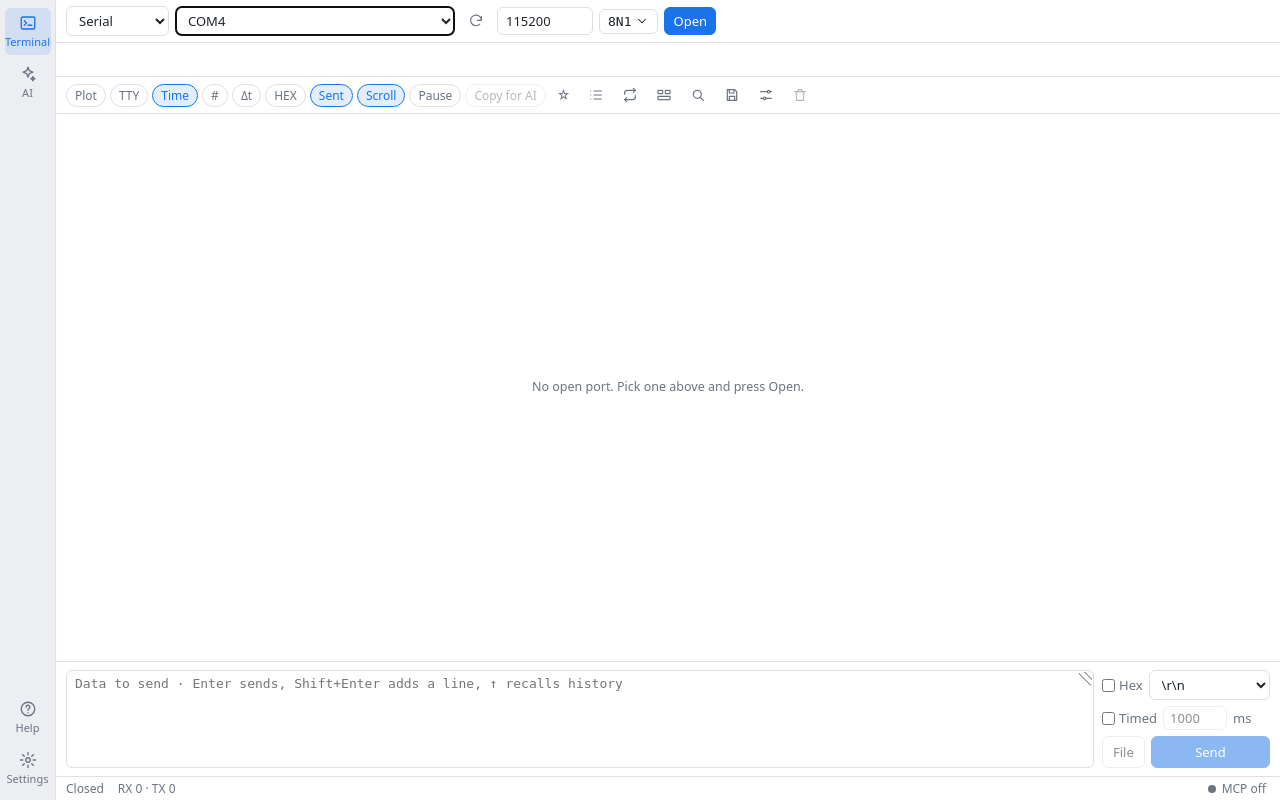
it: App › lists ports and opens one with the chosen settings
Earlier steps of the test are not shown.
Replace the text in the field named "Baud" with "921600" at (545, 21), box 497,7 -> 593,35
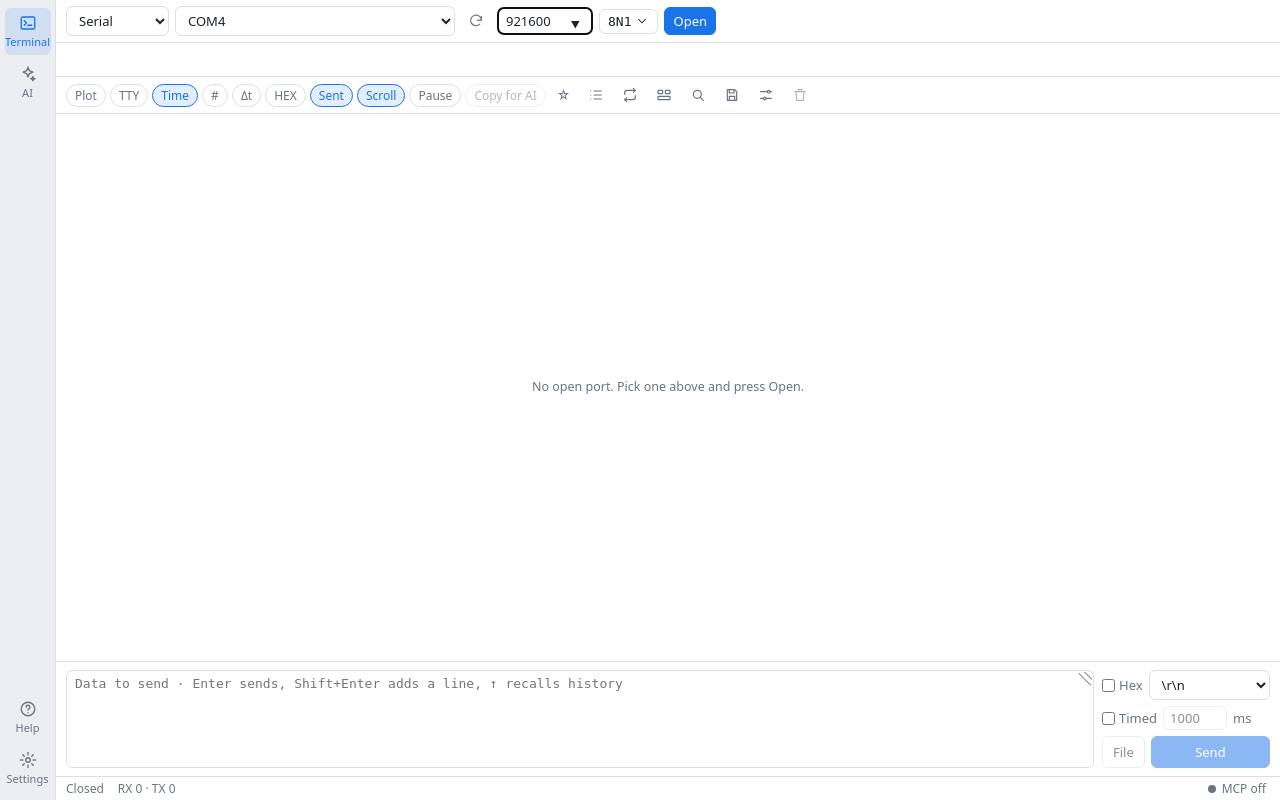
Click the button named "Data bits, parity, stop bits, flow control" at (629, 21), box 599,8 -> 658,34
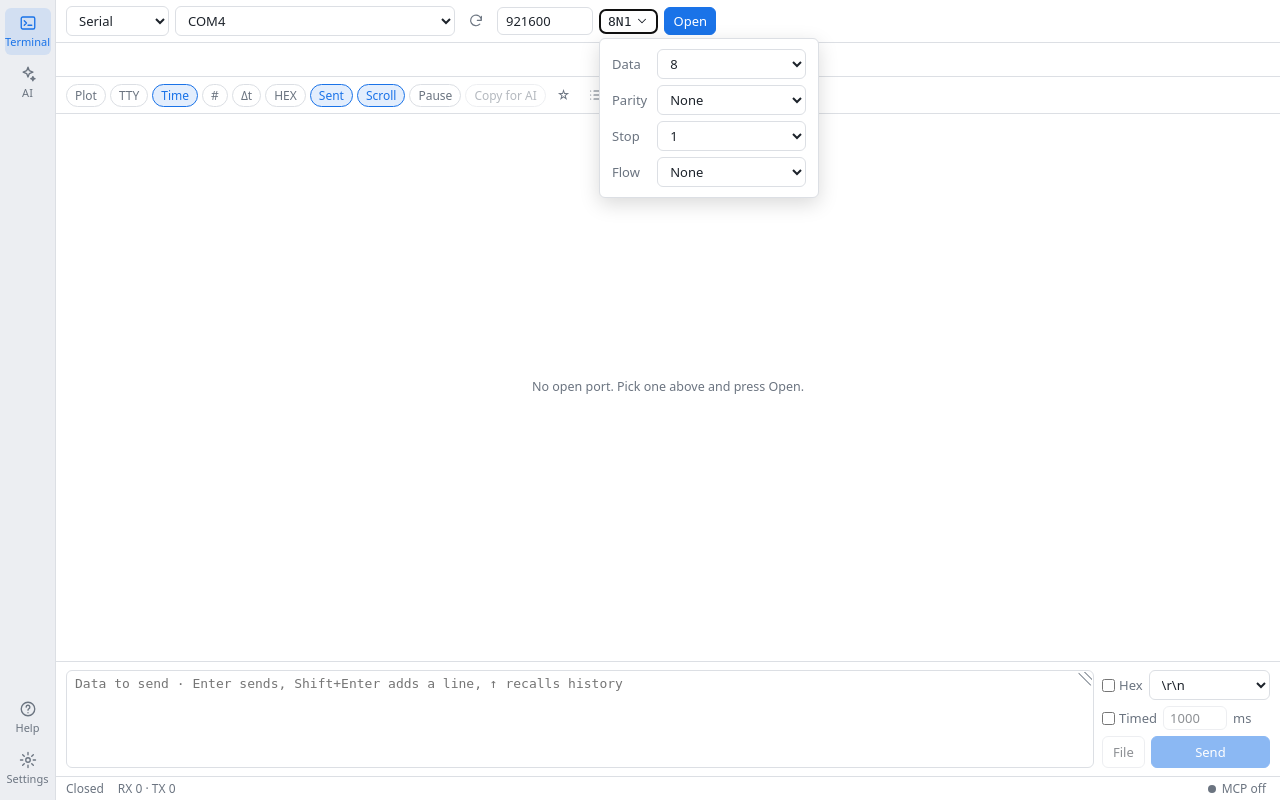
Select "7" in the dropdown named "Data" at (732, 64), box 657,48 -> 806,78
Select "Even" in the dropdown named "Parity" at (732, 100), box 657,84 -> 806,114
Select "2" in the dropdown named "Stop" at (732, 136), box 657,120 -> 806,150
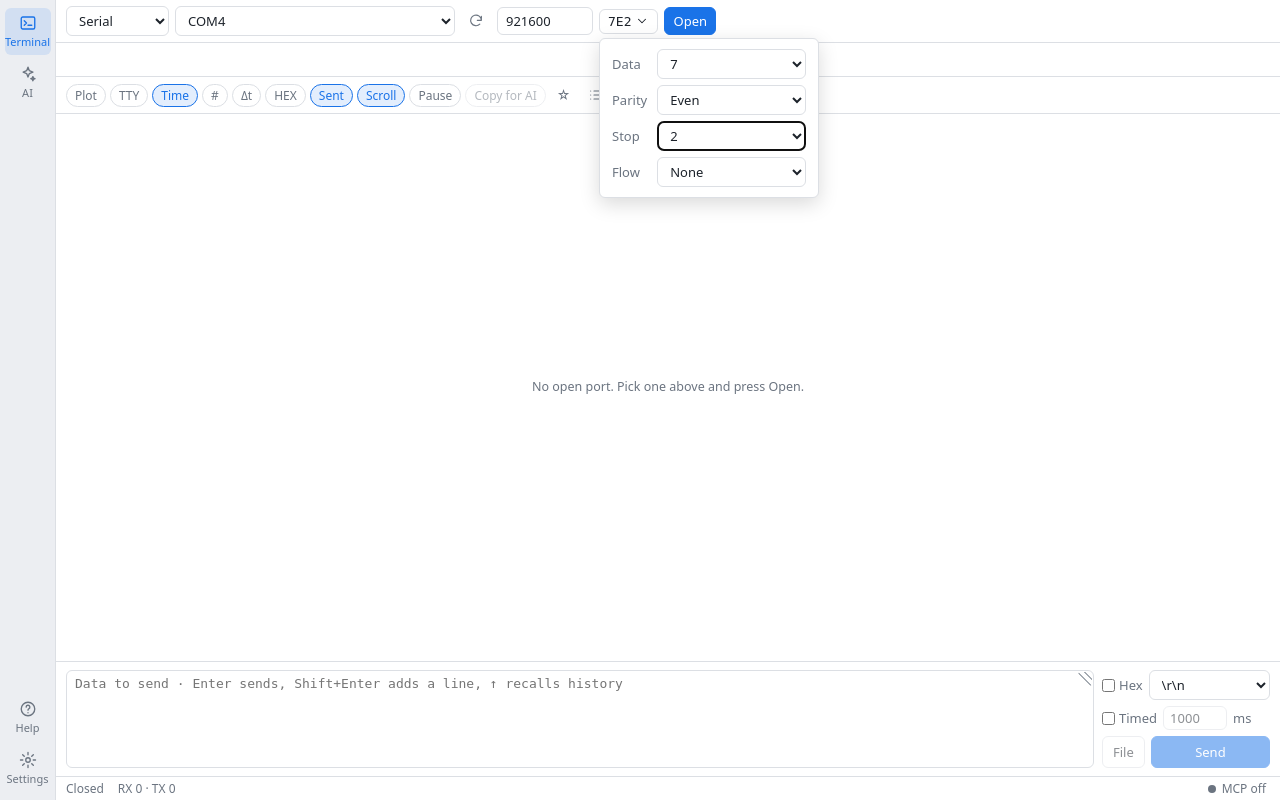
Select "RTS/CTS" in the dropdown named "Flow" at (732, 172), box 657,156 -> 806,186
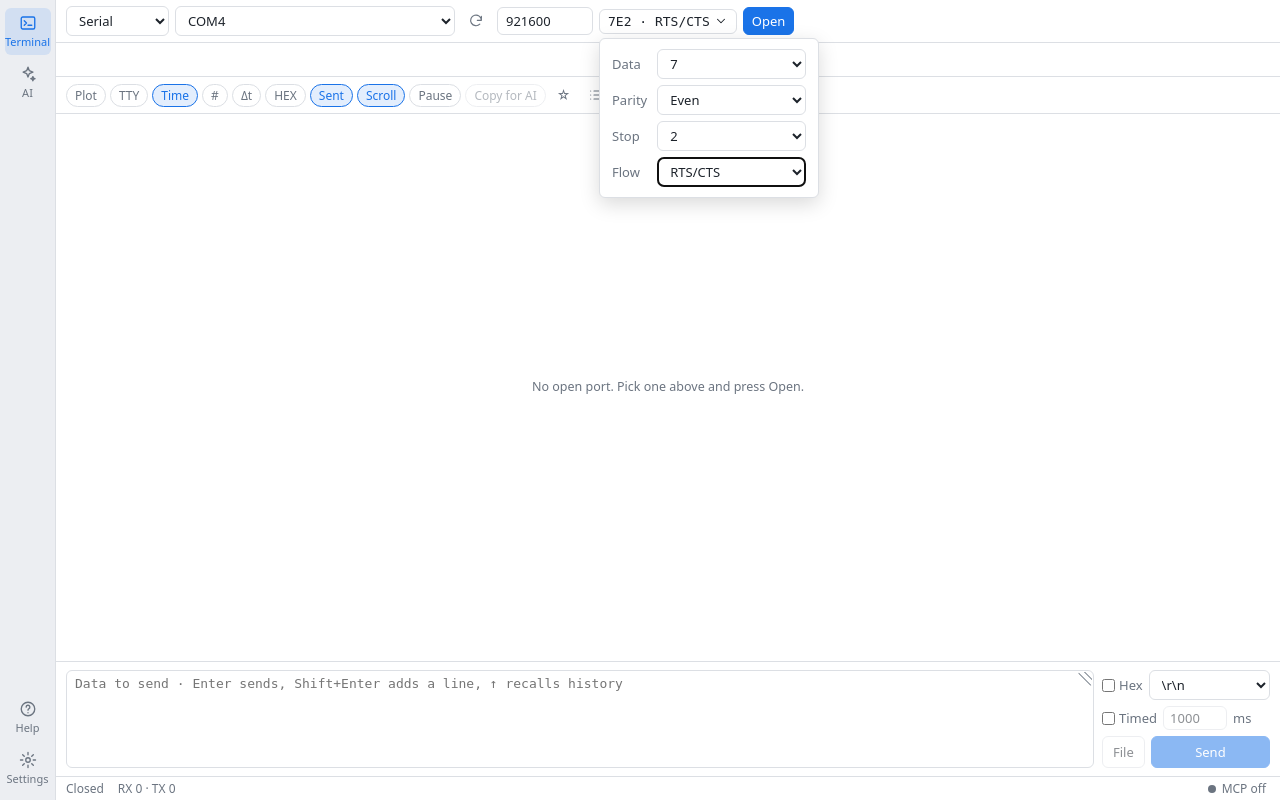
Now the button with aria-label "Data bits, parity, stop bits, flow control" reads "7E2 · RTS/CTS", box 599,8 -> 737,34
Click the button "Open" at (769, 21), box 743,7 -> 794,35
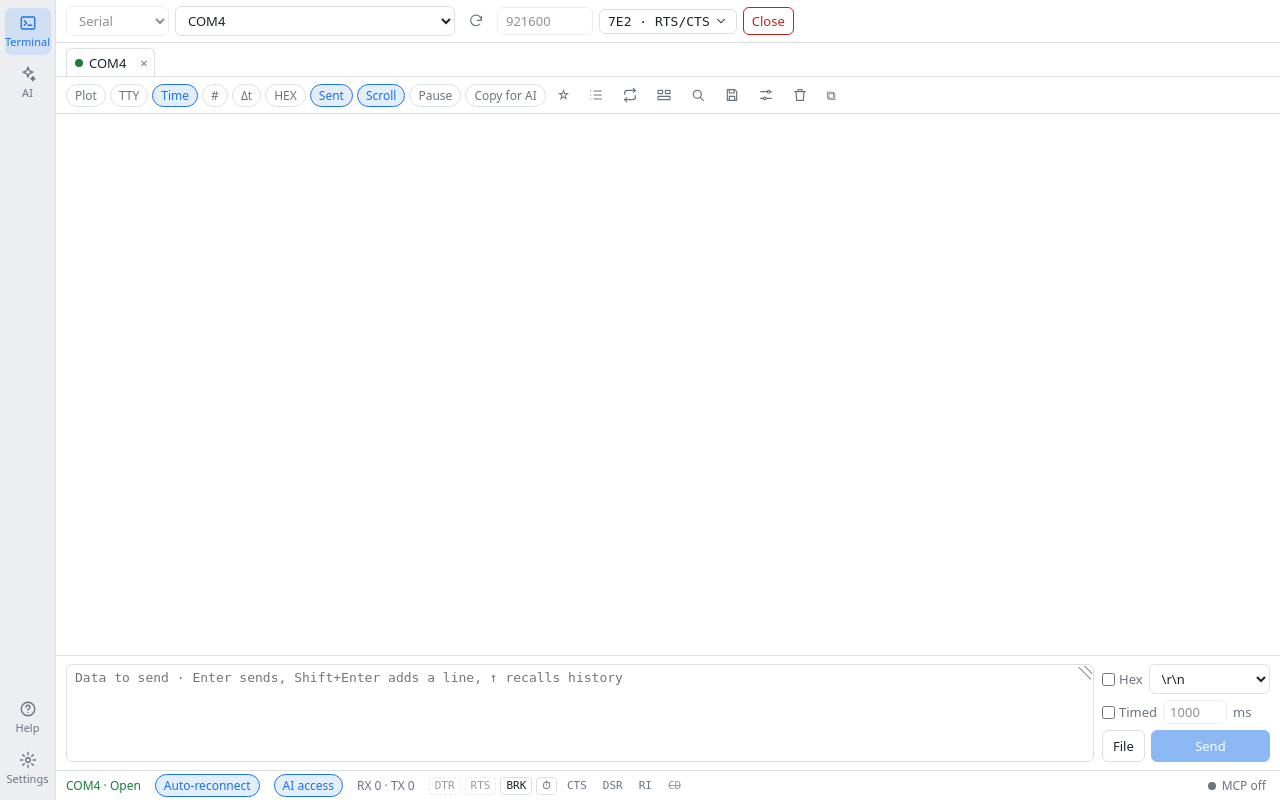
Now the message shows "COM4 · Open", box 56,770 -> 1279,799
Now the field named "Baud" is disabled, box 497,7 -> 593,35
Select "COM3 — CH340 (1a86:7523)" in the dropdown named "Port" at (315, 21), box 175,6 -> 455,36
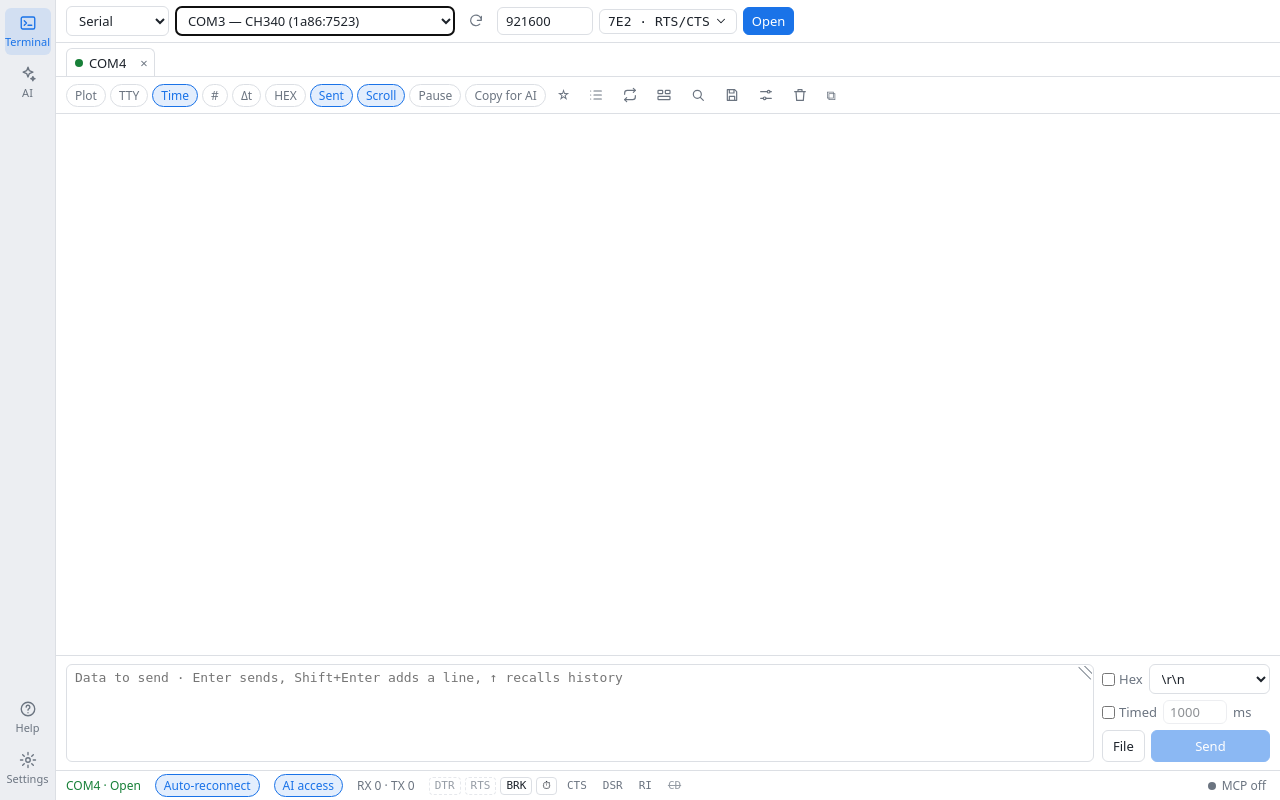
Now the field named "Baud" is enabled, box 497,7 -> 593,35
Now the button "Open" is shown, box 743,7 -> 794,35
